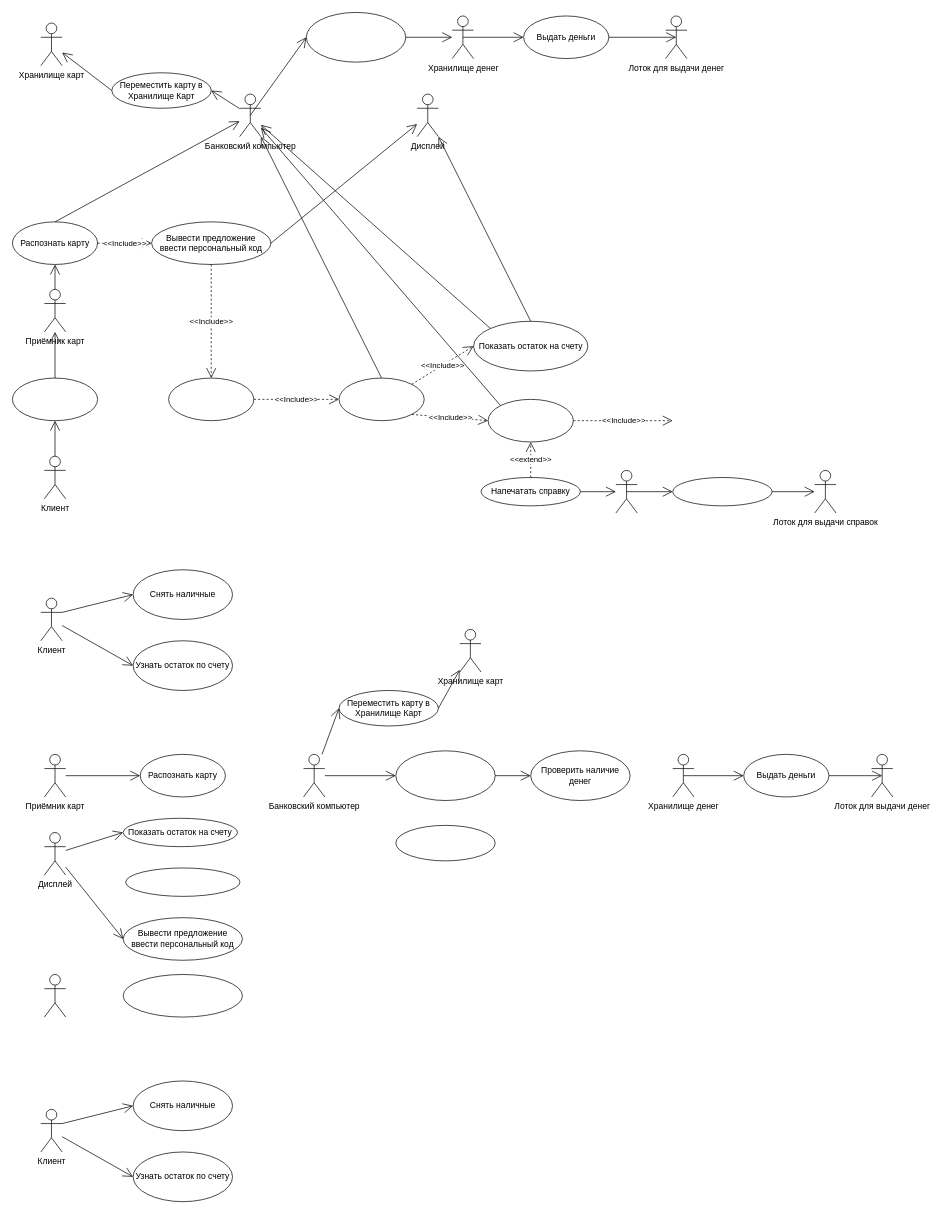
This 942x1214 diagram has some shape labels left out. The shapes that lost their labels are listed below. From the top down, each one's centre as x and y in pixels, then its label:
At point 356,37: "Выдать разрешение на выдачу наличных".
At point 55,399: "Вставить карту".
At point 211,399: "Ввести персональный код карты".
At point 381,399: "Проверить код".
At point 530,420: "Выбрать сумму для съема наличных".
At point 626,491: "Принтер".
At point 722,491: "Выдать справку".
At point 445,775: "Проверить разрешение на выдачу наличных".
At point 445,843: "Проверить правильность кода".
At point 182,881: "Вывести предложение напечатать справку".
At point 55,995: "Панель управления".
At point 182,995: "Указать сумму".
